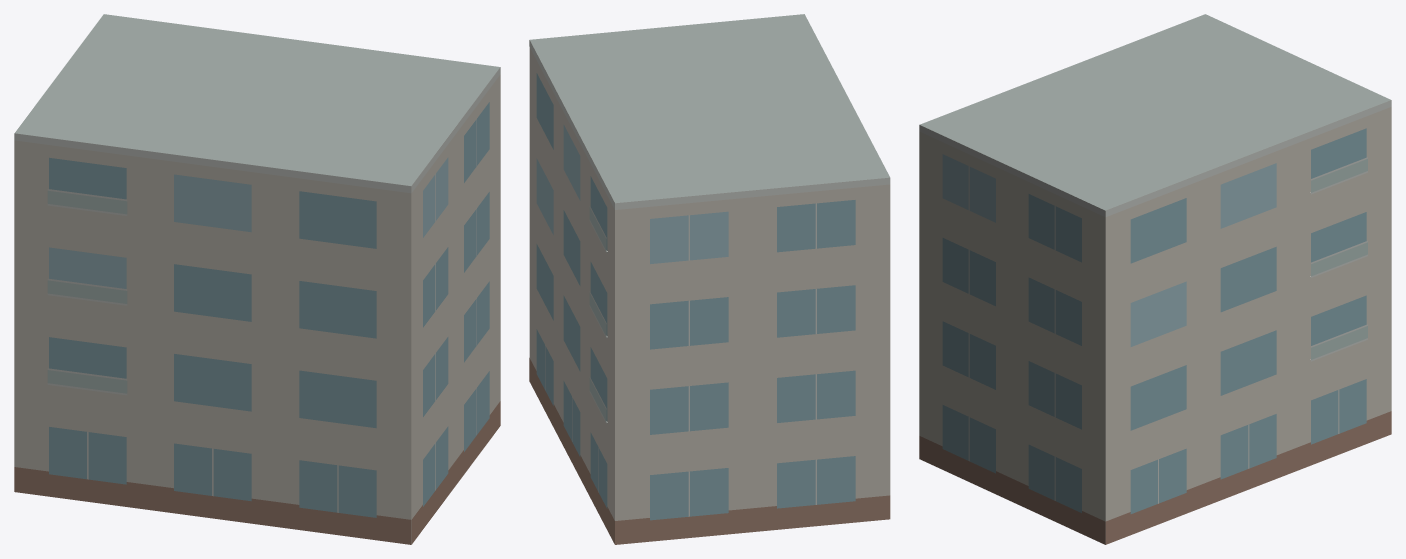
File: residential-873bcfc3-eb7c-4ffb-9d9c-079be90692d0.glb
The picture shows the model from 3 angles, left to right: view 1: azimuth 30°, elevation 25°; view 2: azimuth 150°, elevation 25°; view 3: azimuth 270°, elevation 25°; orthographic projection. The views are drawn at different scales.
Visible parts, largest first — view 1: residential-873bcfc3-eb7c-4ffb-9d9c-079be90692d0.tmp; view 2: residential-873bcfc3-eb7c-4ffb-9d9c-079be90692d0.tmp; view 3: residential-873bcfc3-eb7c-4ffb-9d9c-079be90692d0.tmp.
Part boxes in pixels (bbox=[...]): residential-873bcfc3-eb7c-4ffb-9d9c-079be90692d0.tmp: bbox=[14, 14, 500, 544]; residential-873bcfc3-eb7c-4ffb-9d9c-079be90692d0.tmp: bbox=[529, 14, 890, 544]; residential-873bcfc3-eb7c-4ffb-9d9c-079be90692d0.tmp: bbox=[919, 14, 1391, 544].
Size of the model in its own units: 15.4 by 12.2 by 15.63.
